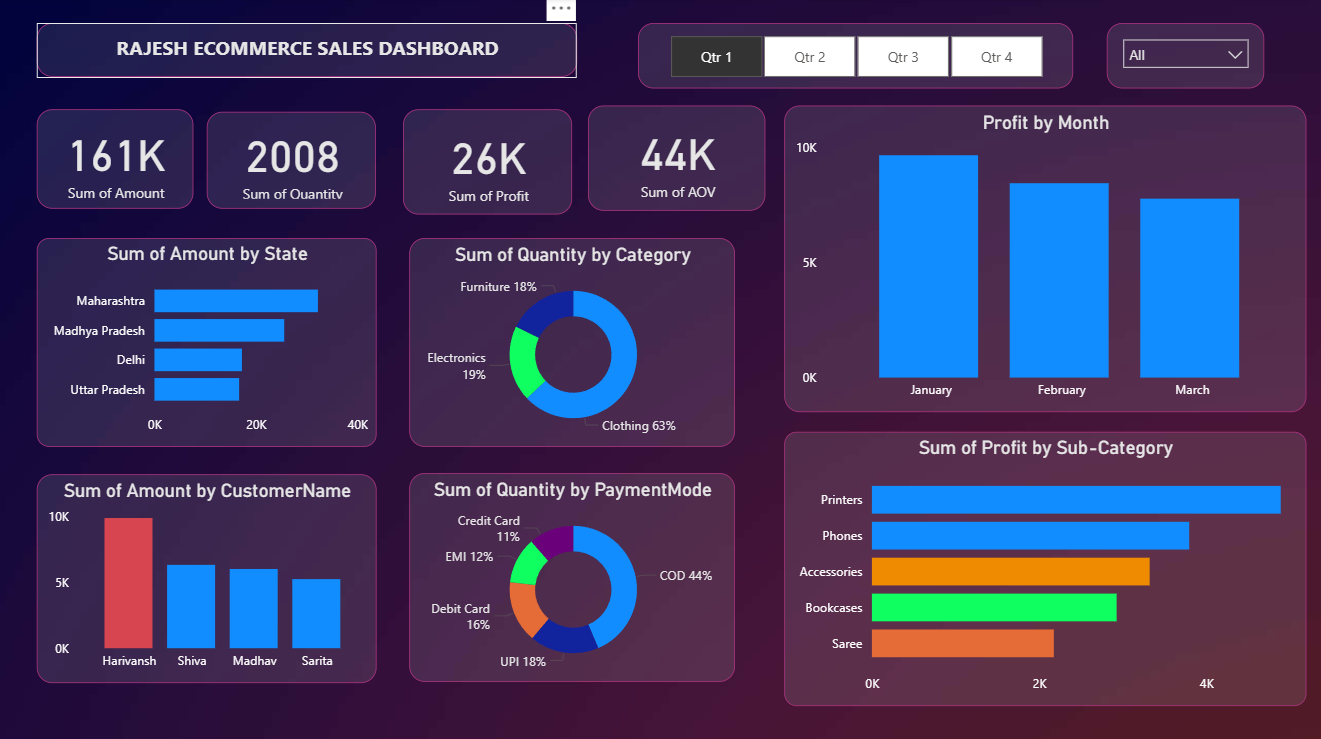

Layout of this report page (visuals, bound fields, positions):
{"tool":"powerbi","page":{"name":"Page 1","canvas":[1280,720],"ordinal":0},"visuals":[{"type":"columnChart","title":"Profit by Month","fields":{"Category":["Orders.Order Date.Variation.Date Hierarchy.Month"],"Y":["Sum(Details.Profit)"]},"box":[758.8,104.3,503.6,296.4],"z":0},{"type":"barChart","fields":{"Category":["Details.Sub-Category"],"Y":["Sum(Details.Profit)"]},"box":[758.8,418.5,503.6,264.8],"z":1000},{"type":"donutChart","fields":{"Category":["Details.Category"],"Y":["Sum(Details.Quantity)"]},"box":[396.6,231.9,314.2,201.7],"z":2000},{"type":"donutChart","fields":{"Y":["Sum(Details.Quantity)"],"Category":["Details.PaymentMode"]},"box":[396.6,458.3,314.2,201.7],"z":3000},{"type":"card","fields":{"Values":["Sum(Details.Amount)"]},"box":[37,107,150.9,96.1],"z":4000},{"type":"card","fields":{"Values":["Sum(Details.AOV)"]},"box":[569.5,104.3,171.5,101.5],"z":5000},{"type":"card","fields":{"Values":["Sum(Details.Quantity)"]},"box":[201.7,109.8,163.3,93.3],"z":6000},{"type":"card","fields":{"Values":["Sum(Details.Profit)"]},"box":[391.1,107,163.3,101.5],"z":7000},{"type":"barChart","fields":{"Category":["Orders.State"],"Y":["Sum(Details.Amount)"]},"box":[37,231.9,328,201.7],"z":8000},{"type":"columnChart","fields":{"Category":["Orders.CustomerName"],"Y":["Sum(Details.Amount)"]},"box":[37,459.7,328,201.7],"z":9000},{"type":"slicer","fields":{"Values":["Orders.Order Date.Variation.Date Hierarchy.Quarter"]},"box":[617.5,24.7,419.9,63.1],"z":10000},{"type":"textbox","box":[37,24.7,521.4,52.1],"z":11000},{"type":"slicer","fields":{"Values":["Orders.State"]},"box":[1070.3,24.7,152.3,63.1],"z":11001}]}

Visuals, with their boxes in screenshot pixels (x1, y1, x2, y2), scaled from the page's 1280x720 canvas onto the 1321x739 screenshot:
"Profit by Month" columnChart: l=783, t=107, r=1303, b=411
barChart - Details.Sub-Category x Sum(Details.Profit): l=783, t=430, r=1303, b=701
donutChart - Details.Category x Sum(Details.Quantity): l=409, t=238, r=734, b=445
donutChart - Sum(Details.Quantity) x Details.PaymentMode: l=409, t=470, r=734, b=677
card - Sum(Details.Amount): l=38, t=110, r=194, b=208
card - Sum(Details.AOV): l=588, t=107, r=765, b=211
card - Sum(Details.Quantity): l=208, t=113, r=377, b=208
card - Sum(Details.Profit): l=404, t=110, r=572, b=214
barChart - Orders.State x Sum(Details.Amount): l=38, t=238, r=377, b=445
columnChart - Orders.CustomerName x Sum(Details.Amount): l=38, t=472, r=377, b=679
slicer - Orders.Order Date.Variation.Date Hierarchy.Quarter: l=637, t=25, r=1071, b=90
textbox: l=38, t=25, r=576, b=79
slicer - Orders.State: l=1105, t=25, r=1262, b=90
